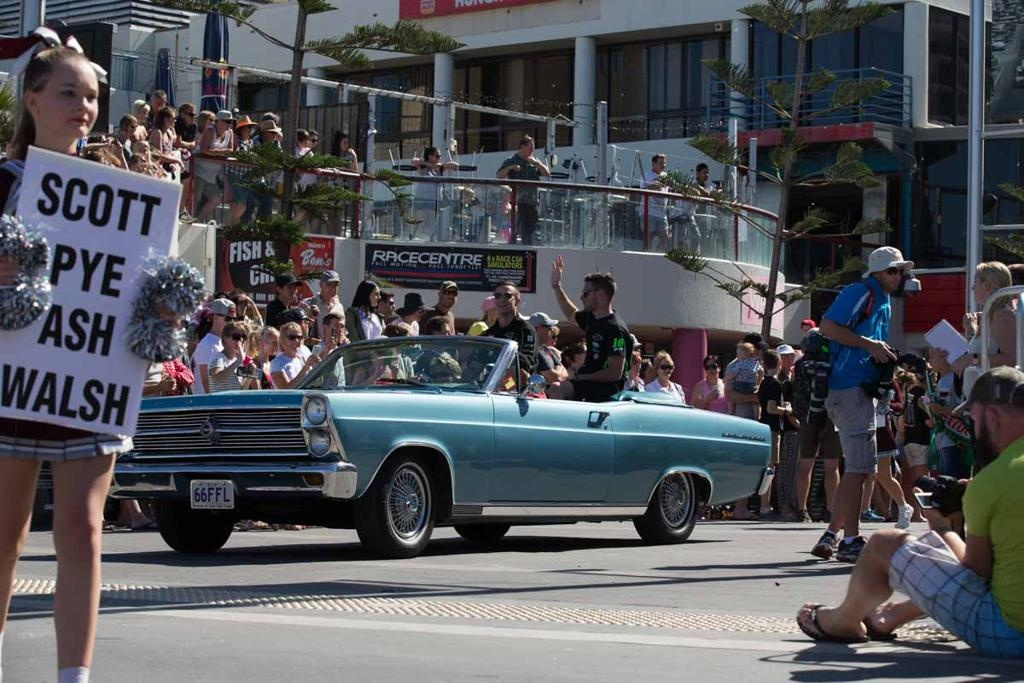human_face: (36, 54, 98, 138), (968, 398, 1000, 462), (880, 260, 902, 292), (971, 270, 989, 304), (580, 278, 596, 314), (495, 286, 515, 314), (928, 342, 944, 372), (328, 314, 344, 342), (434, 320, 452, 344), (372, 343, 390, 363), (657, 356, 673, 378), (365, 284, 381, 306), (294, 314, 310, 336), (262, 330, 278, 352), (286, 327, 300, 351), (228, 330, 244, 351), (572, 350, 586, 372), (438, 289, 454, 307), (324, 276, 338, 296), (219, 312, 233, 330), (234, 296, 246, 316), (138, 142, 152, 158), (540, 323, 550, 345), (382, 294, 394, 312), (802, 324, 814, 342), (772, 351, 782, 372), (217, 116, 231, 130), (778, 353, 792, 367), (704, 360, 716, 376), (282, 280, 294, 296), (182, 111, 196, 124), (164, 112, 176, 127), (632, 361, 642, 378), (126, 118, 136, 134), (412, 302, 422, 318), (100, 138, 110, 154), (902, 360, 912, 376), (527, 138, 535, 156), (133, 159, 143, 173), (750, 342, 760, 356), (154, 95, 166, 106), (204, 117, 214, 130), (243, 122, 251, 138), (139, 107, 149, 119), (654, 158, 664, 170), (645, 363, 653, 378), (736, 343, 744, 358), (341, 139, 349, 153), (700, 166, 708, 180), (552, 329, 560, 343), (464, 192, 474, 202), (298, 134, 306, 146), (431, 150, 439, 162), (267, 131, 275, 141), (310, 134, 318, 144), (505, 190, 513, 200)
